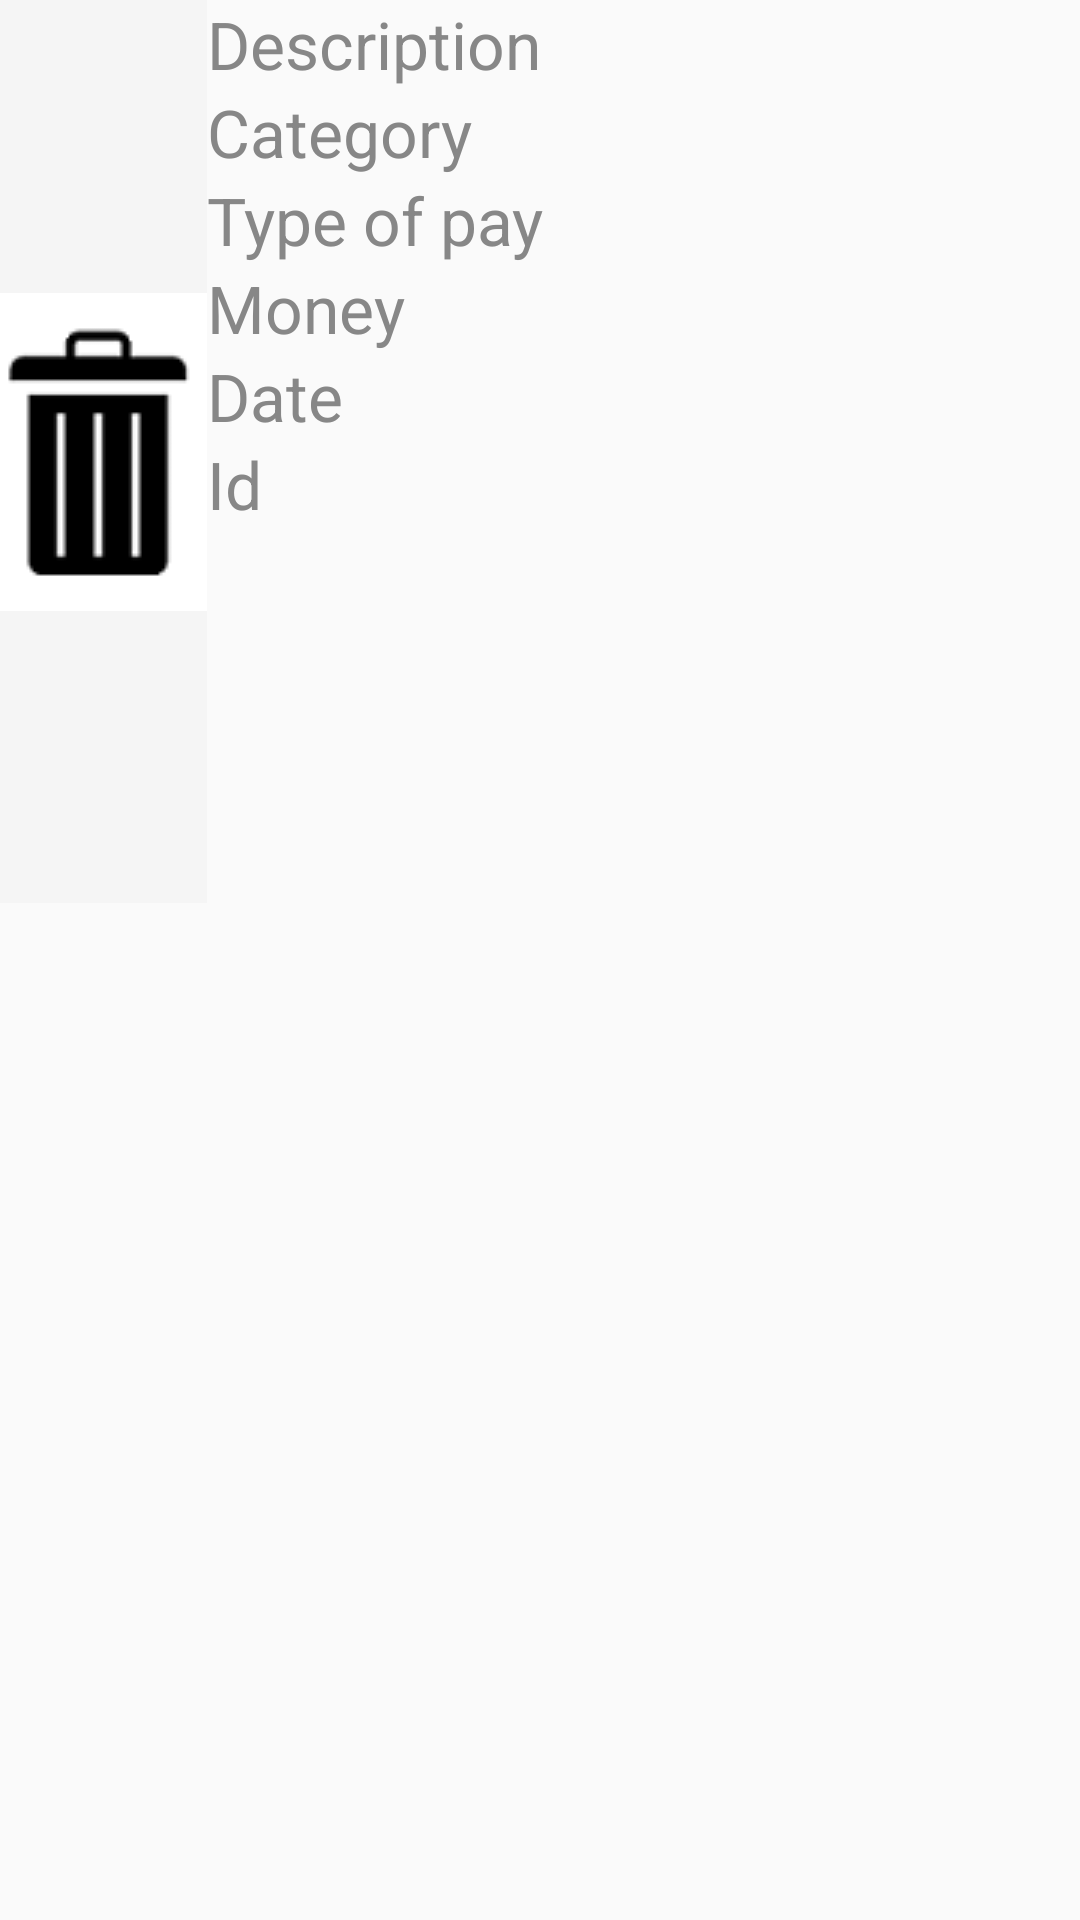

Where icons sit on this 1080px x 1920px app screen, as (x1, y1, x2, y2):
borrar: (8, 329, 188, 576)
